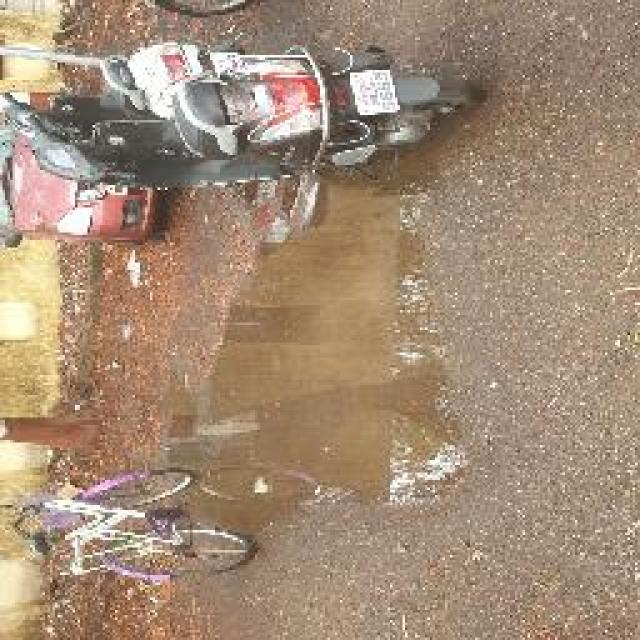puddle: (179, 180, 473, 540)
